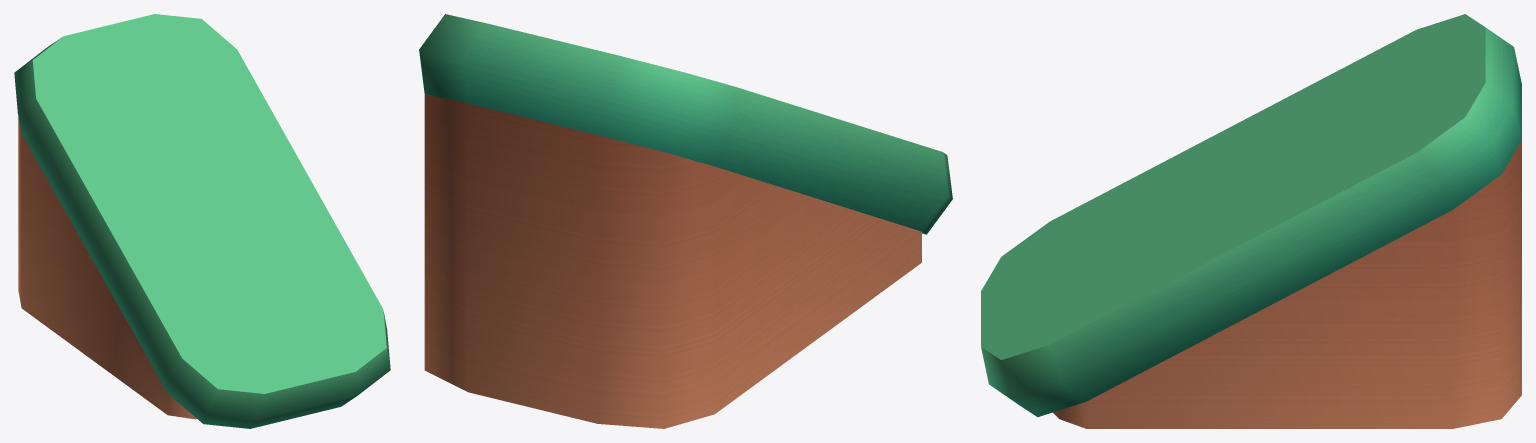
Rendered from block-grass-large-slope-steep-narrow.glb.
3 renders of one model, left to right at view 1: azimuth 30°, elevation 25°; view 2: azimuth 150°, elevation 25°; view 3: azimuth 270°, elevation 25°, orthographic. The views are drawn at different scales.
Parts seen in each view (by area): view 1: block-grass-large-slope-steep-narrow; view 2: block-grass-large-slope-steep-narrow; view 3: block-grass-large-slope-steep-narrow.
Boxes of the visible parts, x1=… form: block-grass-large-slope-steep-narrow: x1=14, y1=14, x2=390, y2=428; block-grass-large-slope-steep-narrow: x1=419, y1=14, x2=952, y2=428; block-grass-large-slope-steep-narrow: x1=981, y1=14, x2=1521, y2=428.
Bounding box in the file's own units: 1.08 × 1.22 × 1.86.
Materials: 1 (1 with a texture image).
